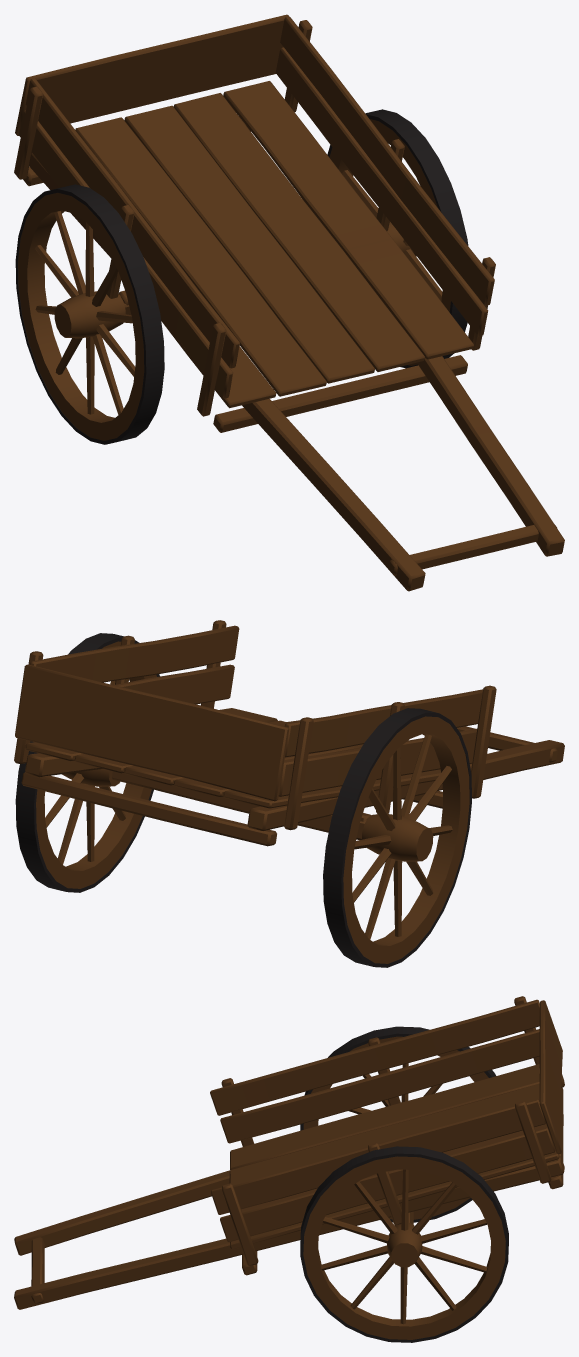
The model's file is karren.glb.
3 renders of one model, top to bottom at view 1: azimuth 30°, elevation 25°; view 2: azimuth 150°, elevation 25°; view 3: azimuth 270°, elevation 25°, orthographic. The views are drawn at different scales.
Visible parts, largest first — view 1: karren; view 2: karren; view 3: karren.
Part boxes in pixels (x1,y1,x2,y2): karren: (14,14,564,591); karren: (14,620,564,967); karren: (14,996,564,1342).
Size of the model in its own units: 1.46 by 1.12 by 2.41.
